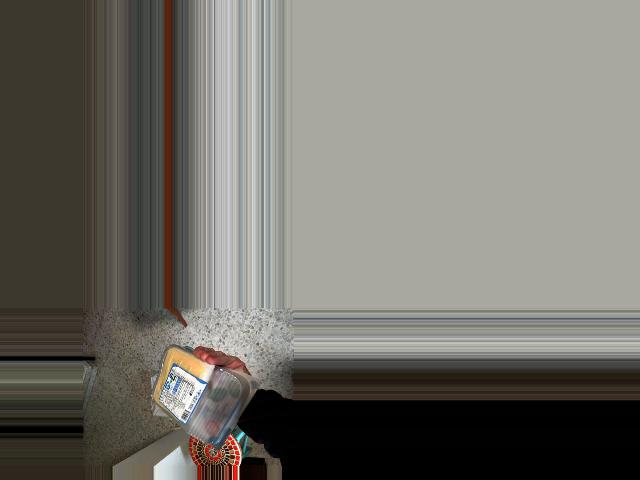cheese: (143, 357, 243, 450)
